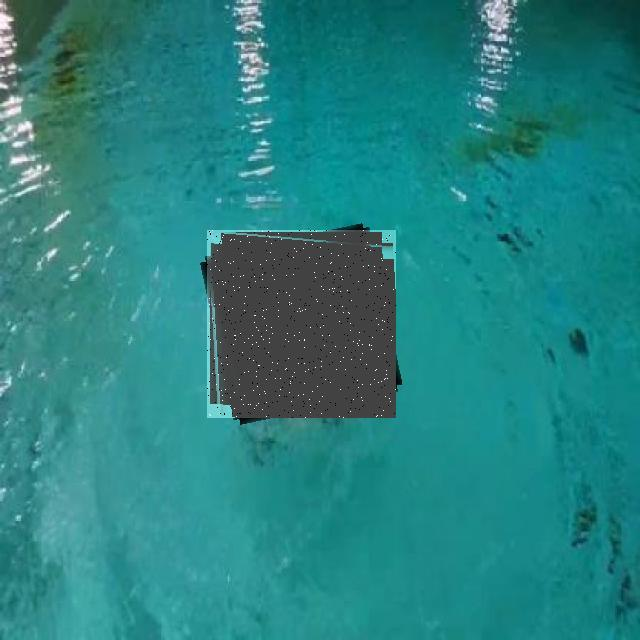Out of Water: (207, 230, 396, 418)
